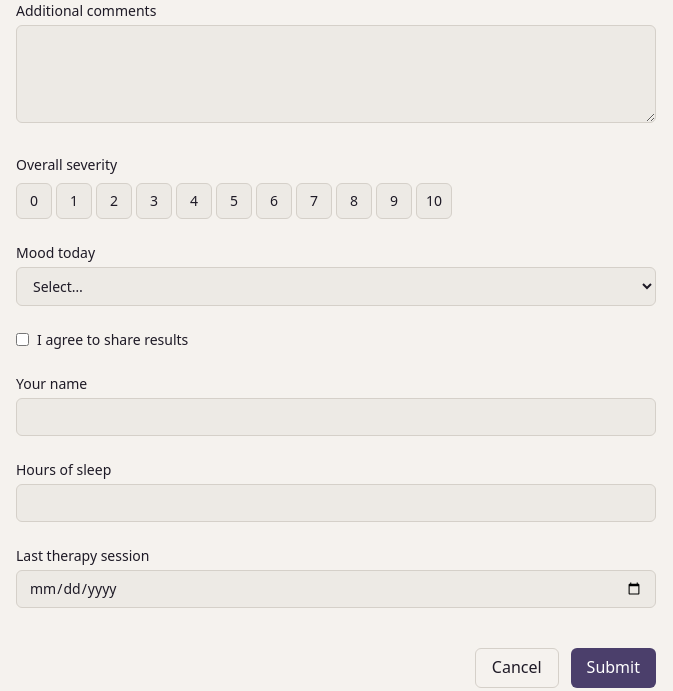
Test: Worksheet submission page › shows submit error when API returns success=false on submit
This screenshot has width=673, height=691.
(page scrolled)
Click the button "Submit" at [613, 668], box [571,648,656,688]
(page scrolled)
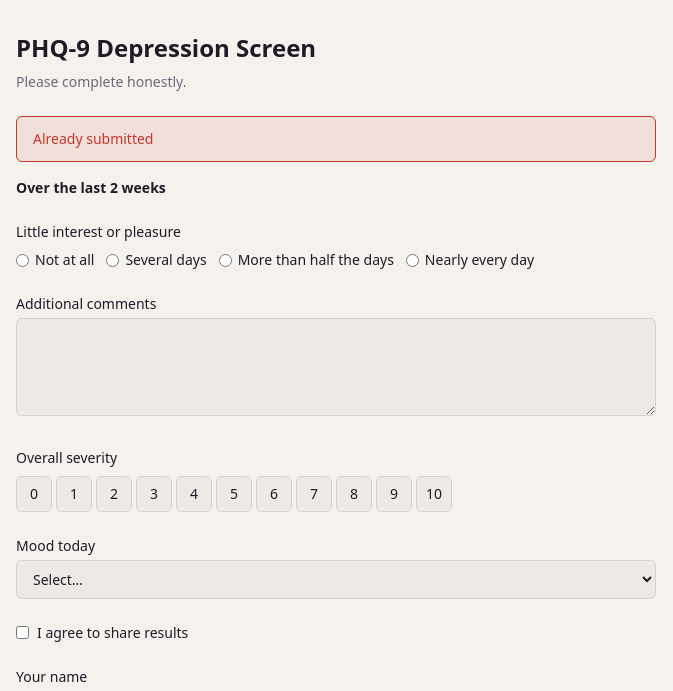
Result: the text "Already submitted" is shown at [16,116,656,162]
